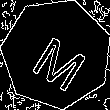M_NE: (23, 20, 90, 87)
